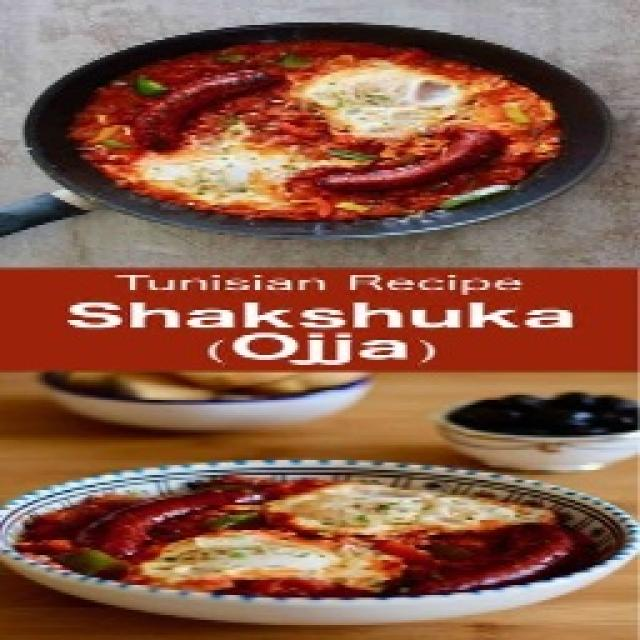Chakchouka: (25, 22, 605, 228), (0, 465, 635, 625)
